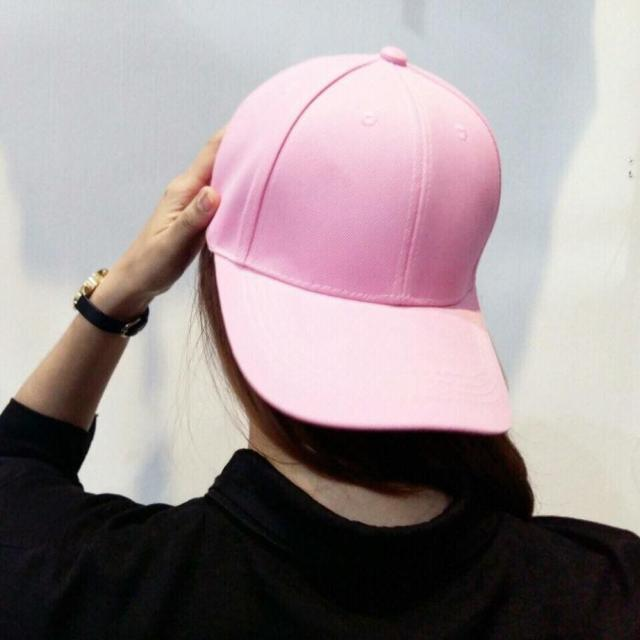Cap: (201, 40, 525, 446)
